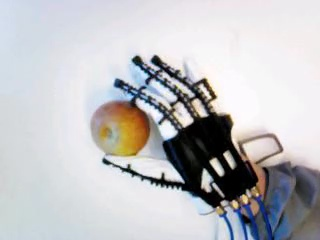apple: (90, 99, 148, 156)
hand: (99, 55, 259, 215)
